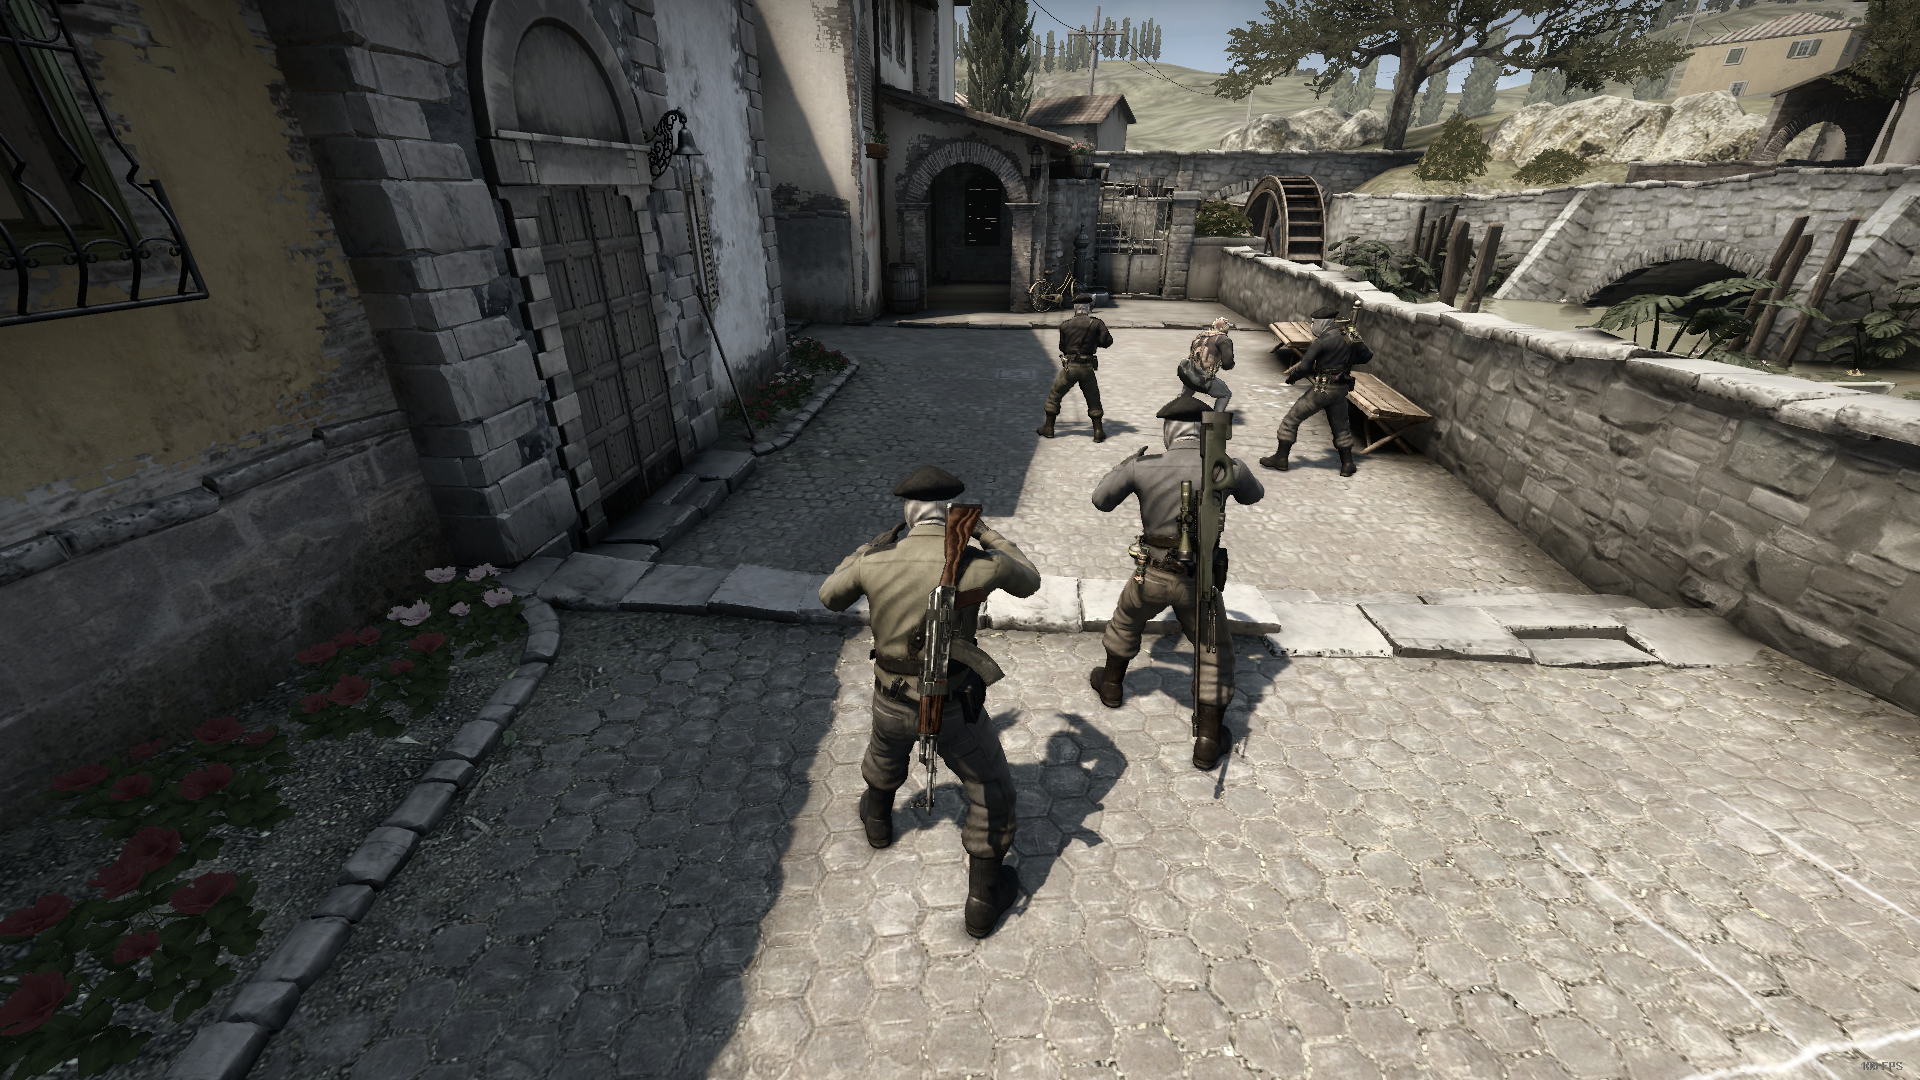t: (823, 467, 1040, 938), (1091, 394, 1266, 769), (1263, 309, 1371, 473), (1038, 295, 1114, 442)
